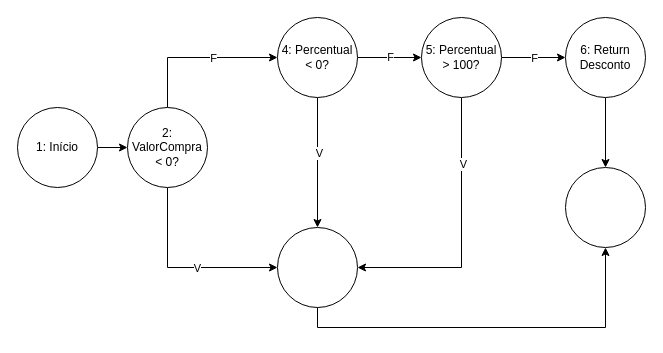
This 663x353 diagram has some shape labels left out. The centre of each missing label's shape, as x and y in pixels:
"3: Throw Exceção" goes at [317,267].
"7: Fim" goes at [605,207].
